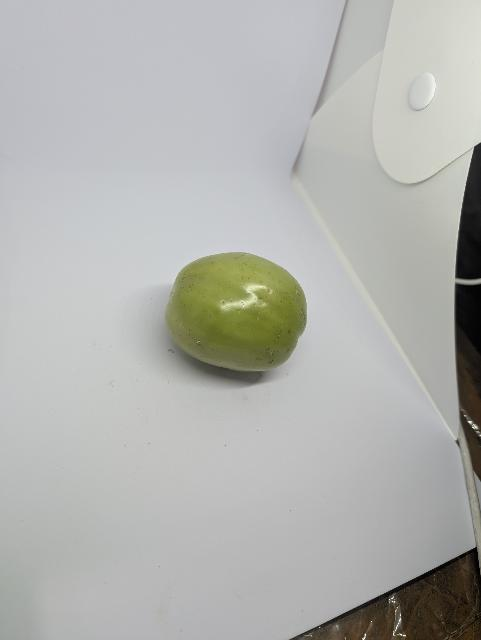green: (159, 243, 319, 390)
